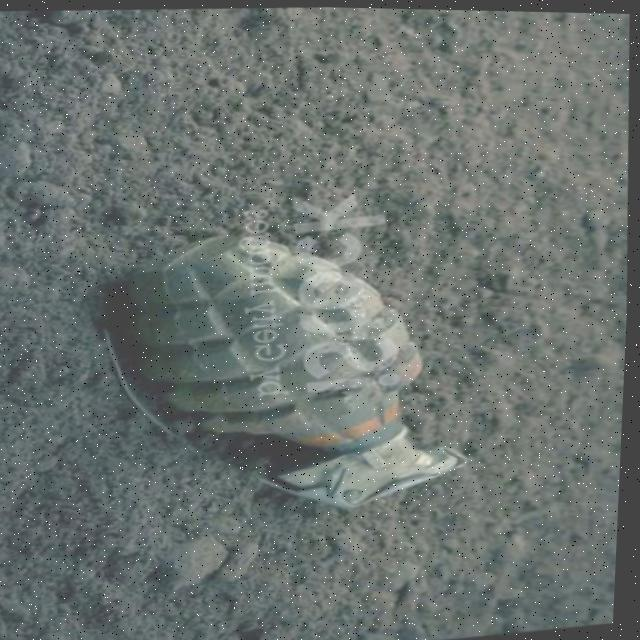grenade: (83, 204, 480, 540)
